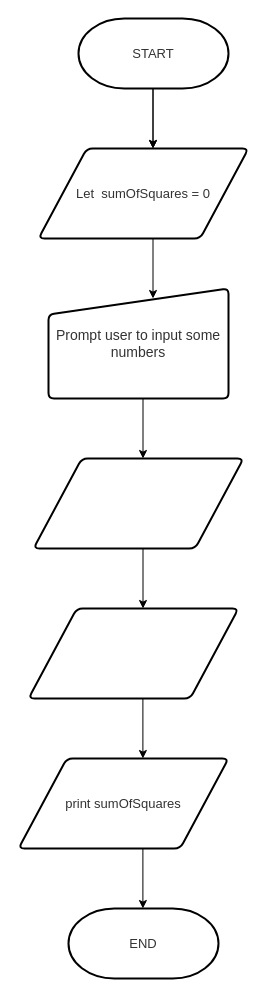
Some shapes in this 266 by 996 pixel diagram are drawn without their labels. Here are the shapes that lost their labels. From the top down, the centre of each, then its label:
At [138,503]: "multiply each inputed number by itself".
At [133,653]: "sumOfSquares = 0 + all squared inputed numbers".
